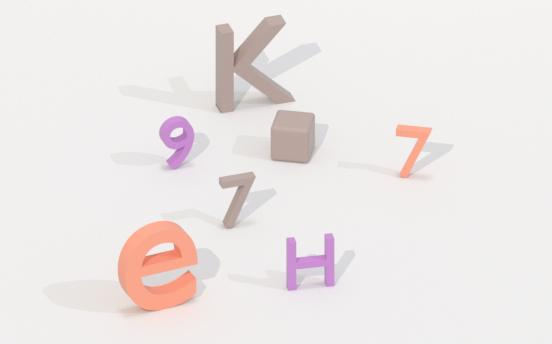7: (390, 119, 435, 180), (218, 170, 259, 230)
9: (158, 115, 198, 172)
H-hoa: (284, 232, 338, 297)
e: (116, 220, 199, 311)
hop: (264, 105, 317, 168)
k: (211, 9, 296, 116)
